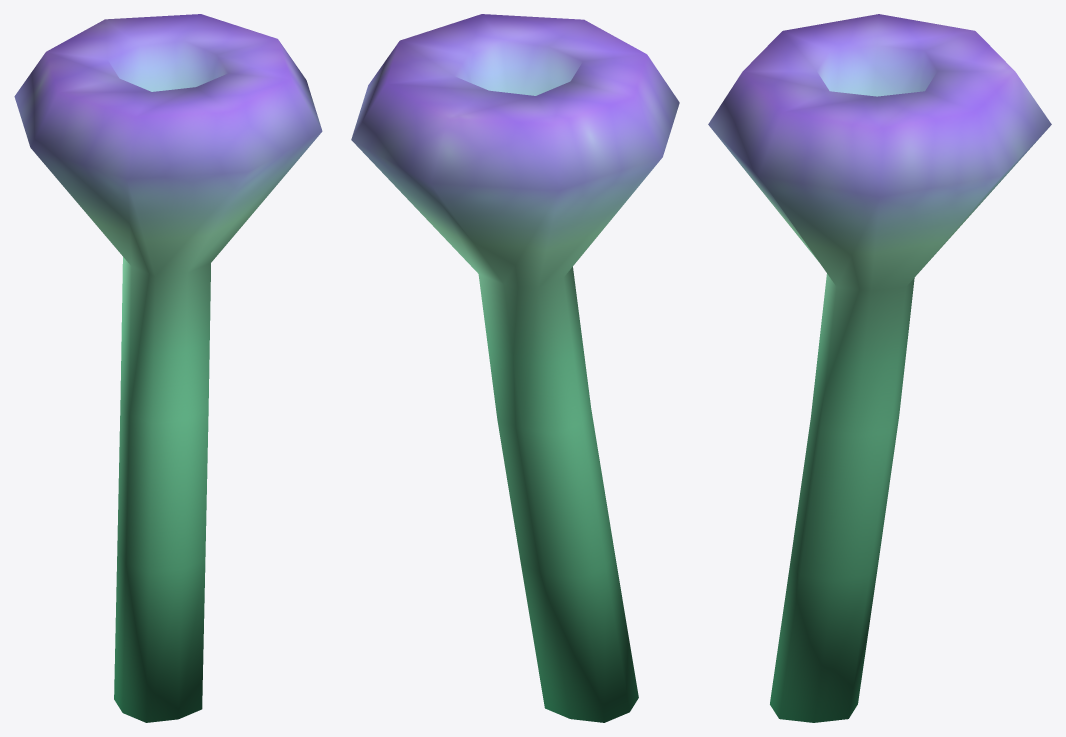
Rendered from GroundCover2.002.fbx.
The picture shows the model from 3 angles, left to right: view 1: azimuth 30°, elevation 25°; view 2: azimuth 150°, elevation 25°; view 3: azimuth 270°, elevation 25°; orthographic projection. The views are drawn at different scales.
Visible parts, largest first — view 1: Stem.010; view 2: Stem.010; view 3: Stem.010.
Boxes of the visible parts, x1,y1,x2,y2 form: Stem.010: [14, 14, 322, 722]; Stem.010: [351, 14, 679, 722]; Stem.010: [708, 14, 1051, 722].
Bounding box in the file's own units: 102 × 214 × 102.
Materials: 1 (1 with a texture image).
